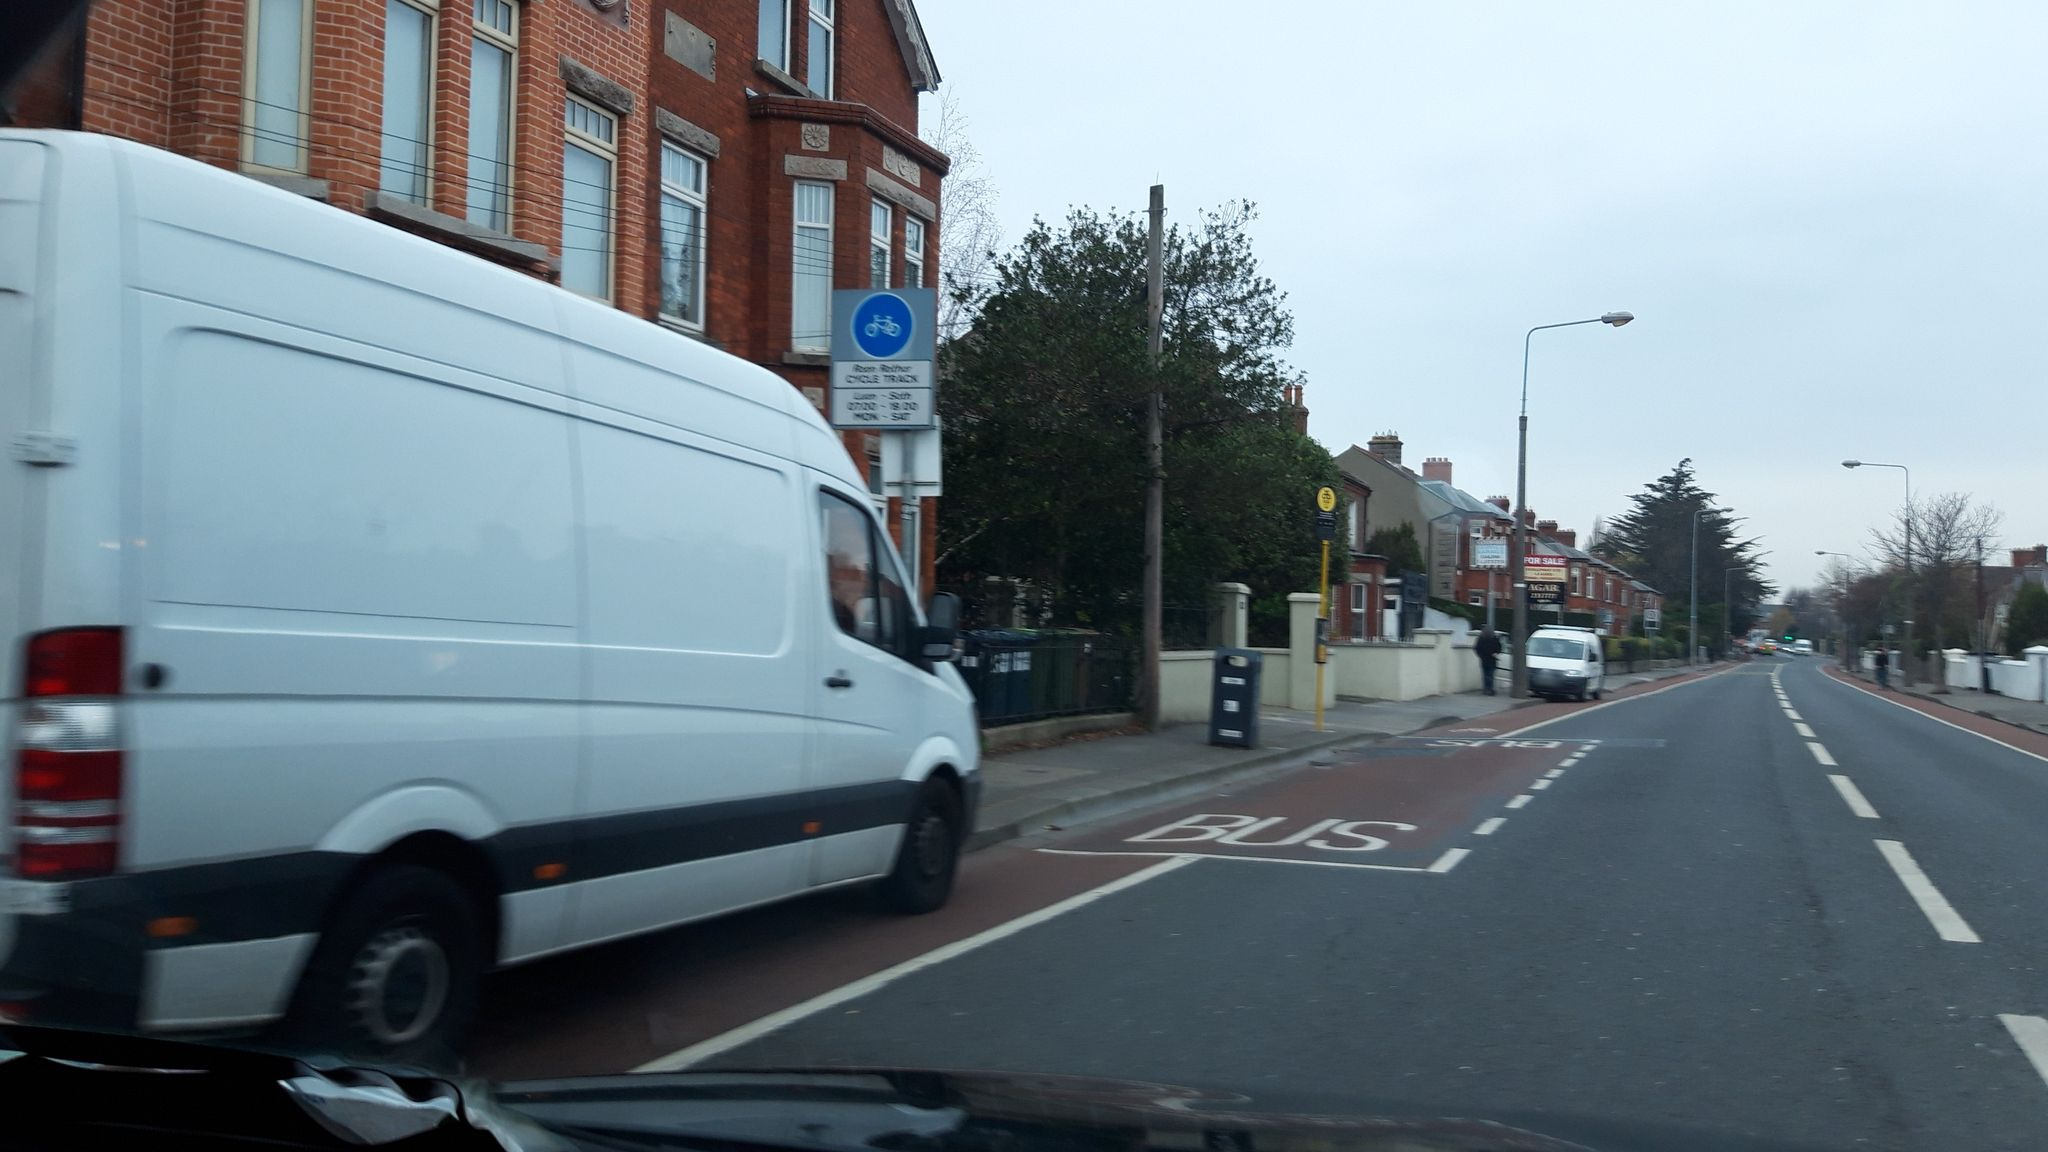property sign: (1511, 543, 1580, 622)
